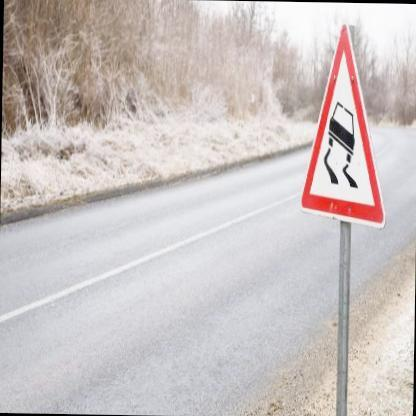road_sign: (301, 25, 384, 228)
